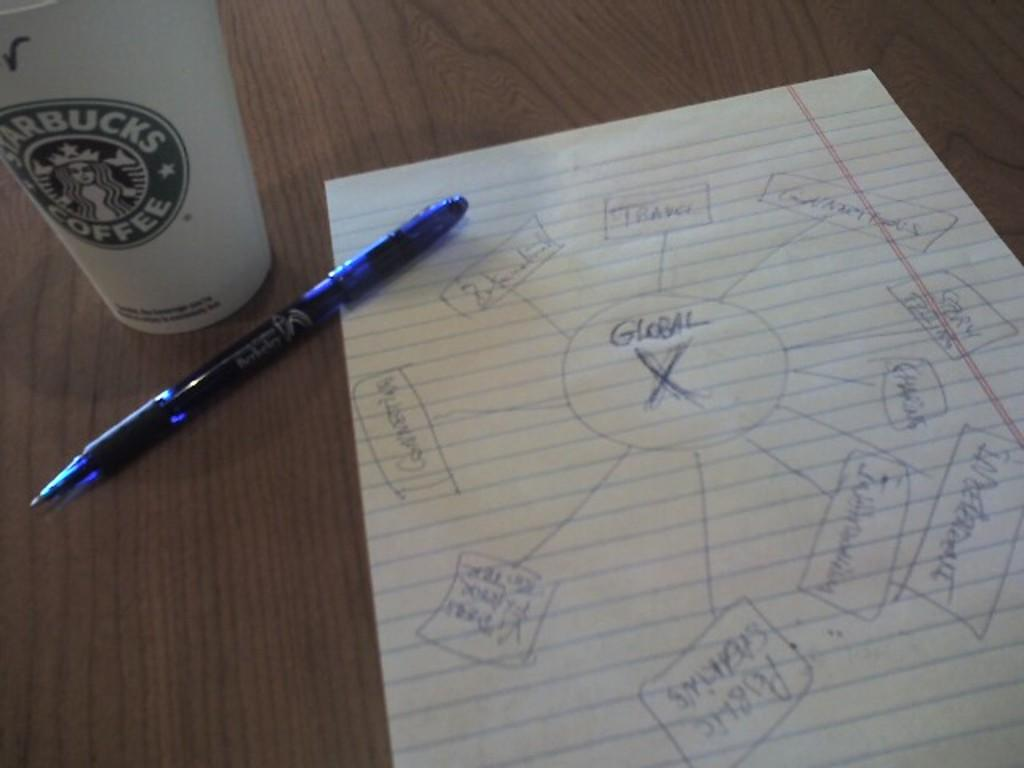pen: (26, 194, 474, 518)
